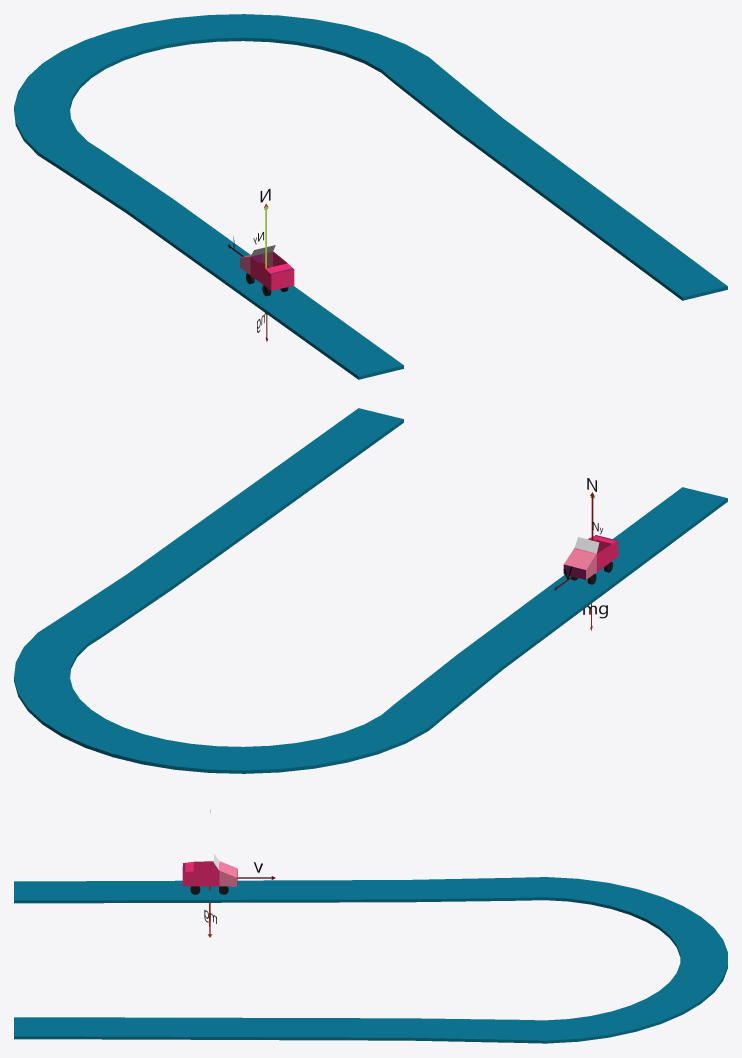
The model's file is Banking.glb.
3 views of the same model, one above another, from view 1: azimuth 30°, elevation 25°; view 2: azimuth 150°, elevation 25°; view 3: azimuth 270°, elevation 25° (orthographic). The views are drawn at different scales.
Parts seen in each view (by area): view 1: road, car; view 2: road, car; view 3: road, car.
Boxes of the visible parts, x1,y1,x2,y2 form: road: (14, 14, 727, 379); car: (240, 245, 294, 296); road: (14, 408, 727, 773); car: (563, 535, 618, 584); road: (14, 877, 727, 1043); car: (182, 854, 237, 894).
Bounding box in the file's own units: 51.66 × 19.52 × 95.27.
3 materials, 3 textured.
